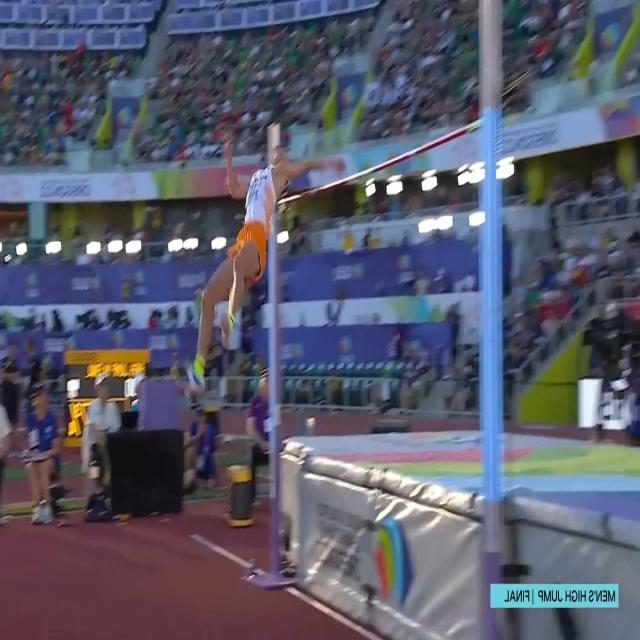jump: (173, 126, 347, 397)
